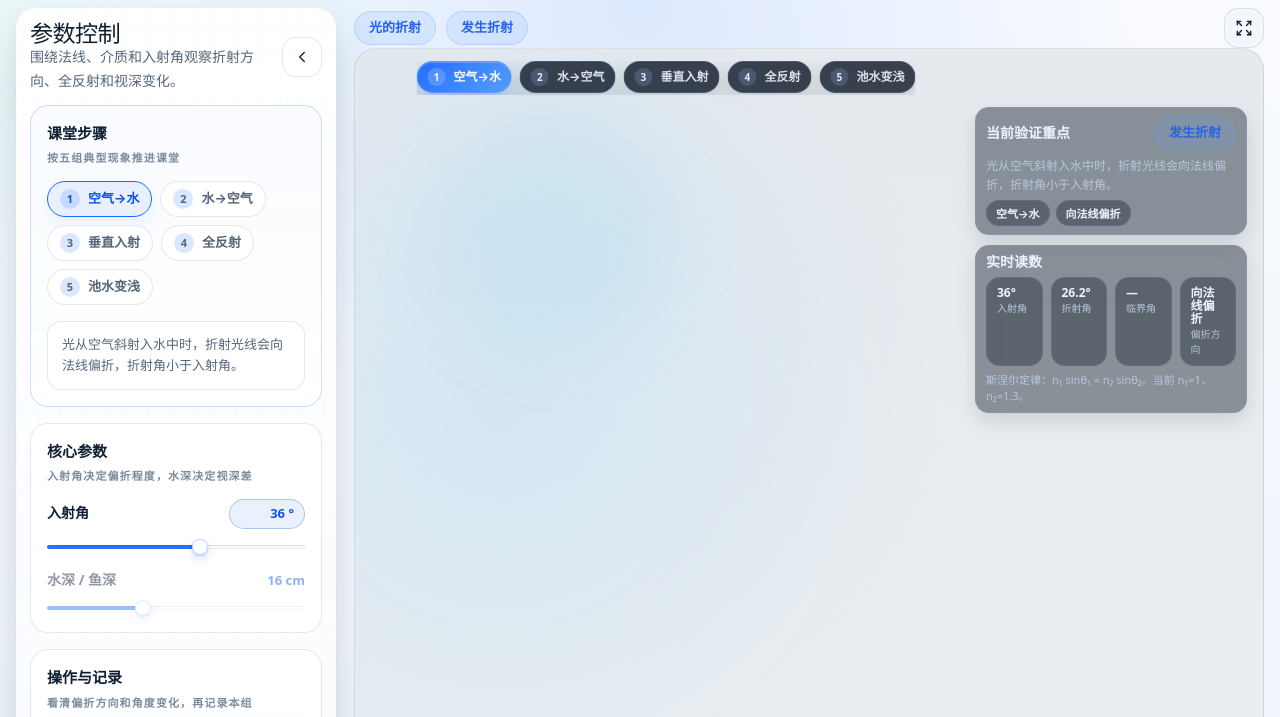
Test case: LightRefractionLab › shows total internal reflection on the dedicated step
The image size is (1280, 717).
Click the button "4 全反射" below "按五组典型现象推进课堂": (208, 243) top-left (161, 225), bottom-right (254, 261)
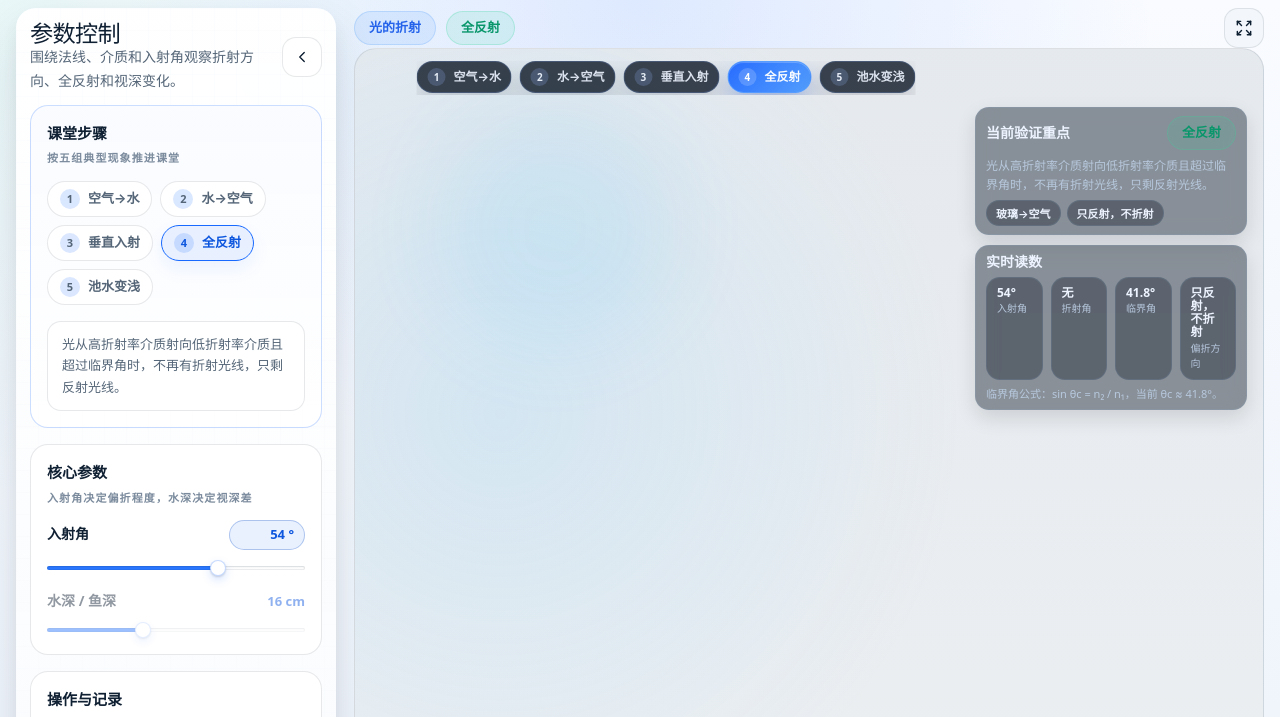
Expected: the text "只反射，不折射" below "当前验证重点" is shown, top-left (1076, 206), bottom-right (1154, 221)
